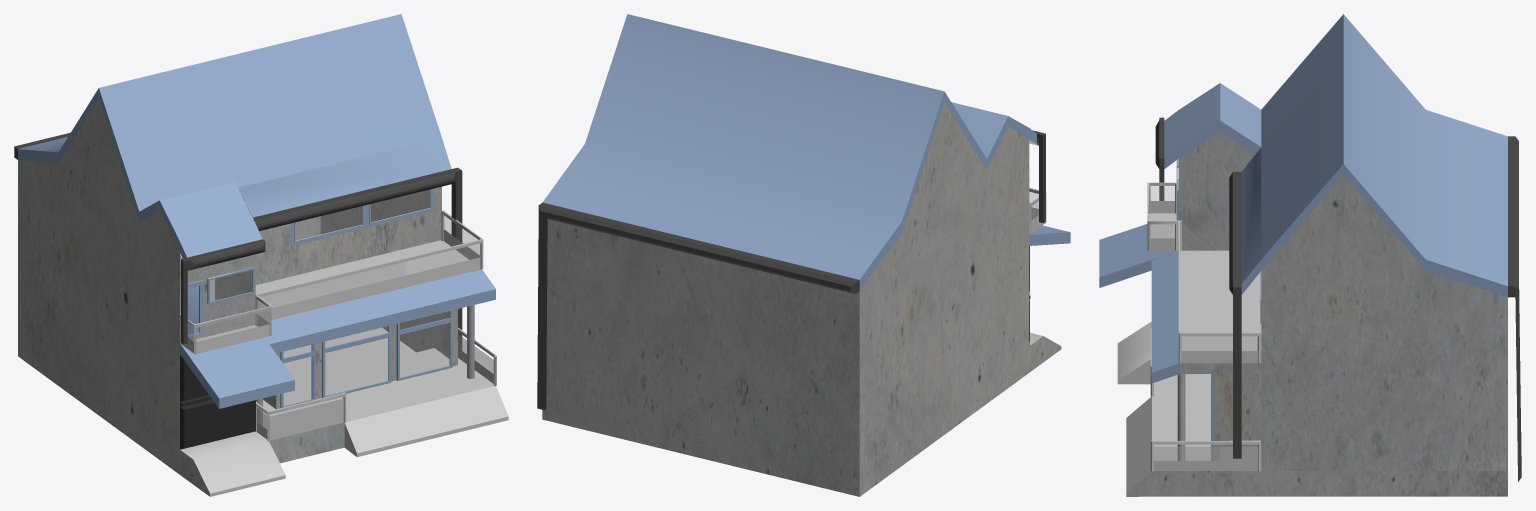
The model's file is House.fbx.
3 renders of one model, left to right at view 1: azimuth 30°, elevation 25°; view 2: azimuth 150°, elevation 25°; view 3: azimuth 270°, elevation 25°, orthographic. The views are drawn at different scales.
Parts seen in each view (by area): view 1: Mesh, Mesh (6), Mesh (4), Mesh (7), Mesh (5), Mesh (3); view 2: Mesh, Mesh (6); view 3: Mesh, Mesh (6), Mesh (7), Mesh (3).
Boxes of the visible parts, <box> form: Mesh: <box>14,98,508,496</box>; Mesh (6): <box>18,14,495,408</box>; Mesh (4): <box>180,354,255,449</box>; Mesh (7): <box>180,210,496,441</box>; Mesh (5): <box>187,280,203,338</box>; Mesh (3): <box>256,305,474,426</box>; Mesh: <box>537,102,1061,496</box>; Mesh (6): <box>542,14,1070,290</box>; Mesh: <box>1117,117,1521,496</box>; Mesh (6): <box>1099,14,1507,383</box>; Mesh (7): <box>1147,182,1260,471</box>; Mesh (3): <box>1177,374,1185,460</box>.
Size of the model in its own units: 150 by 150 by 172.
